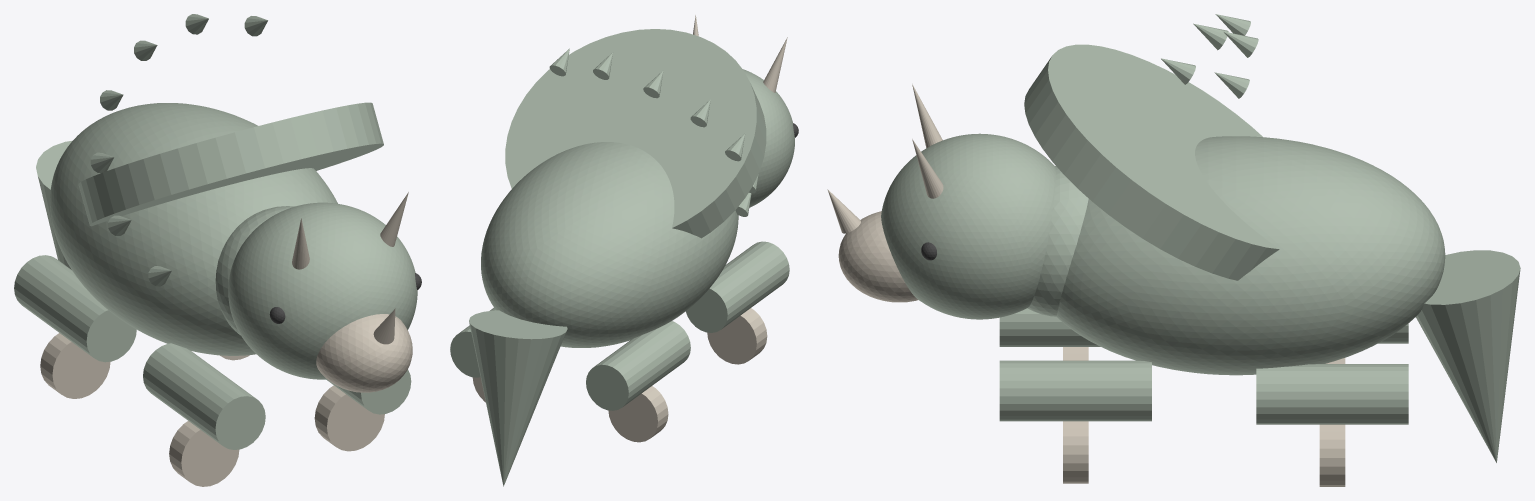
File: triceratops.glb
3 renders of one model, left to right at view 1: azimuth 30°, elevation 25°; view 2: azimuth 150°, elevation 25°; view 3: azimuth 270°, elevation 25°, orthographic. The views are drawn at different scales.
Parts seen in each view (by area): view 1: part_0, part_2, part_4, part_20, part_24, part_3, part_25, part_21, part_23, part_1, part_22, part_28 (+3 smaller); view 2: part_0, part_4, part_28, part_24, part_20, part_2, part_21, part_25, part_26, part_15; view 3: part_0, part_4, part_2, part_28, part_22, part_26, part_1, part_3, part_20, part_27, part_23.
Boxes of the visible parts, x1,y1,x2,y2 form: part_0: (50,103,337,355); part_2: (228,202,417,379); part_4: (78,102,383,226); part_20: (143,343,265,449); part_24: (14,255,136,362); part_3: (316,314,412,392); part_25: (40,333,110,398); part_21: (169,421,239,486); part_23: (314,385,384,451); part_1: (215,206,294,335); part_22: (326,369,411,414); part_28: (36,140,72,269); part_0: (481,142,738,347); part_4: (505,29,766,238); part_28: (469,310,567,486); part_24: (586,321,690,410); part_20: (686,241,789,332); part_2: (743,69,794,207); part_21: (707,308,767,364); part_25: (608,386,668,442); part_26: (450,308,495,377); part_15: (763,37,787,92); part_0: (1056,136,1445,375); part_4: (1024,44,1279,280); part_2: (881,133,1055,319); part_28: (1416,250,1520,462); part_22: (999,360,1151,421); part_26: (1256,364,1408,424); part_1: (1027,166,1088,316); part_3: (838,211,917,302); part_20: (999,308,1100,346); part_27: (1319,424,1345,486); part_23: (1063,421,1088,483).
Size of the model in its own units: 2 by 2.98 by 4.32.
